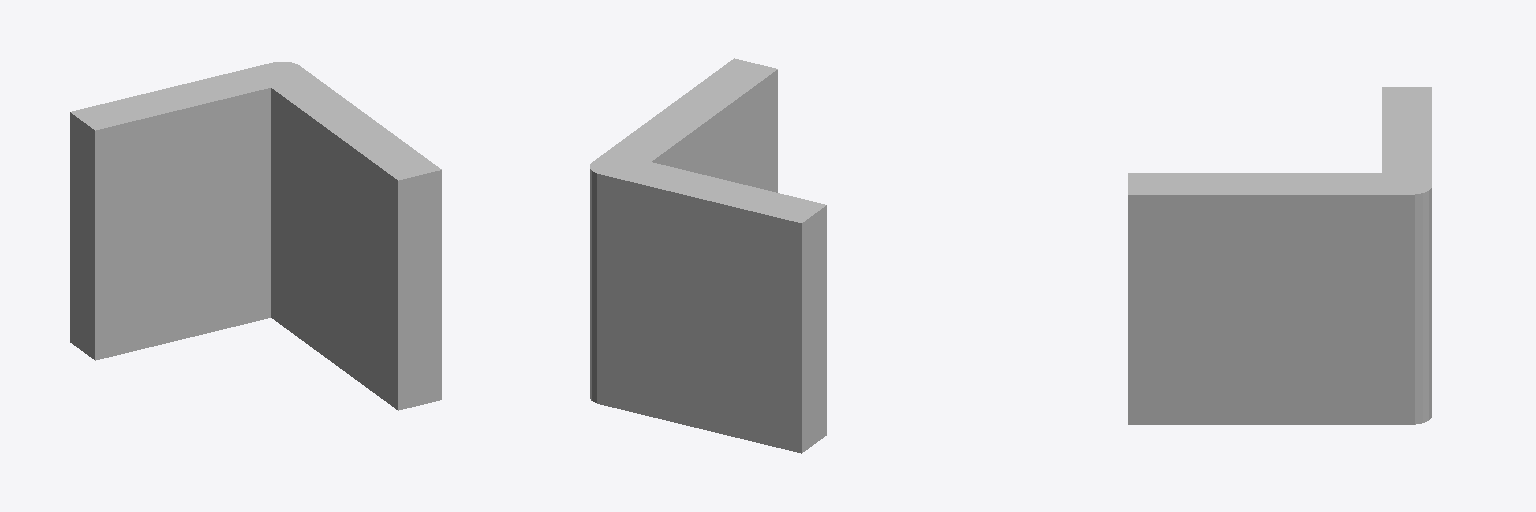
The model's file is anglewall_left(middle).obj.
3 renders of one model, left to right at view 1: azimuth 30°, elevation 25°; view 2: azimuth 150°, elevation 25°; view 3: azimuth 270°, elevation 25°, orthographic.
Visible parts, largest first — view 1: anglewall_left(middle); view 2: anglewall_left(middle); view 3: anglewall_left(middle).
Part boxes in pixels (left/top/right/bottom): anglewall_left(middle): left=70, top=62, right=441, bottom=410; anglewall_left(middle): left=590, top=58, right=826, bottom=453; anglewall_left(middle): left=1128, top=87, right=1431, bottom=424.
Bounding box in the file's own units: 1 × 1 × 1.2.